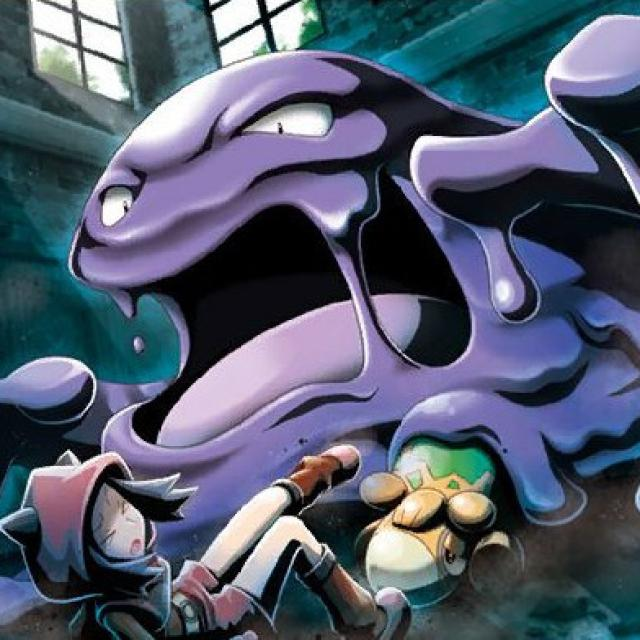Muk: (67, 48, 520, 464)
